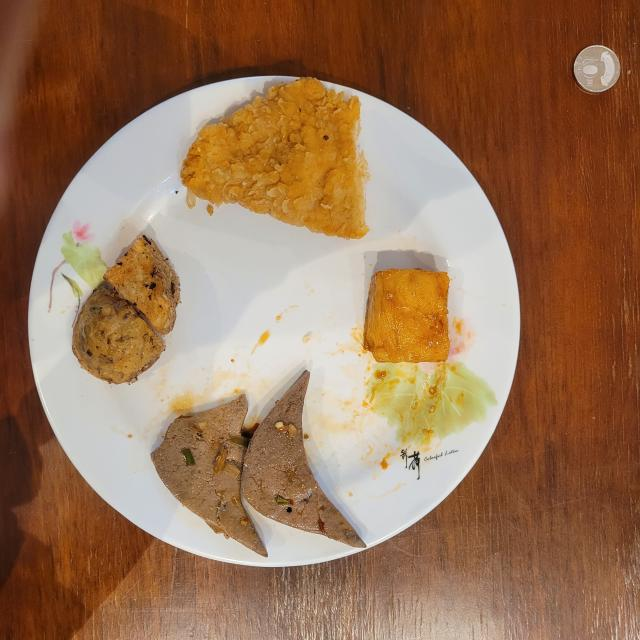coin: (574, 45, 620, 92)
creamy tofu: (364, 269, 450, 362)
fried chicken cutlet: (181, 78, 369, 239)
fried potato: (72, 235, 180, 384)
pig liver: (151, 370, 366, 556)
